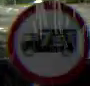Heavy Vehicles: (9, 0, 86, 79)
